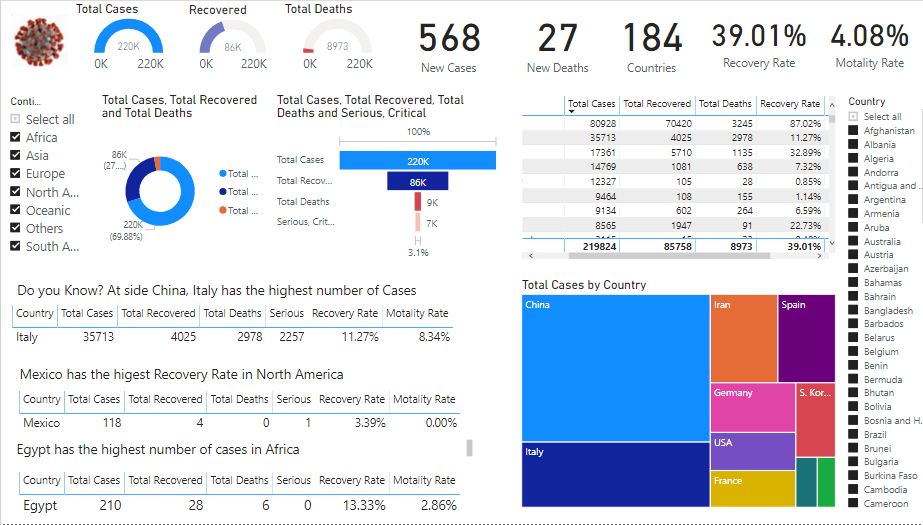

What the dashboard file says about the page in this screenshot:
{"tool":"powerbi","page":{"name":"Page 1","canvas":[1280,720],"ordinal":0},"visuals":[{"type":"image","box":[9.6,0,88.1,107.4],"z":0},{"type":"textbox","box":[9.6,380,631.9,37.2],"z":1000},{"type":"gauge","title":"Total Cases","fields":{"Y":["Sum(Covid-19.Total Cases)"],"MaxValue":["Sum(Covid-19.Total Cases)"]},"box":[97.7,0,155.6,107.4],"z":2000},{"type":"tableEx","fields":{"Values":["Covid-19.Country","Sum(Covid-19.Total Cases)","Sum(Covid-19.Total Recovered)","Sum(Covid-19.Total Deaths)","Sum(Covid-19.Serious, Critical)","Covid-19.Recovery Rate","Covid-19.Motality Rate"]},"box":[9.8,413.5,654.1,80.2],"z":3000},{"type":"gauge","title":"Recovered","fields":{"Y":["Sum(Covid-19.Total Recovered)"],"MaxValue":["Sum(Covid-19.Total Cases)"]},"box":[253.3,1.4,132.2,106],"z":4000},{"type":"gauge","title":"Total Deaths","fields":{"Y":["Sum(Covid-19.Total Deaths)"],"MaxValue":["Sum(Covid-19.Total Cases)"]},"box":[385.5,0,155.6,107.4],"z":5000},{"type":"card","fields":{"Values":["Sum(Covid-19.New Cases)"]},"box":[541,0,150.1,107.4],"z":6000},{"type":"card","fields":{"Values":["Sum(Covid-19.New Deaths)"]},"box":[691.1,0,150.1,107.4],"z":7000},{"type":"card","fields":{"Values":["Covid-19.Countries"]},"box":[820.5,0,150.1,106],"z":8000},{"type":"card","fields":{"Values":["Covid-19.Recovery Rate"]},"box":[970.6,0,145.9,107.4],"z":9000},{"type":"card","fields":{"Values":["Covid-19.Motality Rate"]},"box":[1130.2,0,130.8,106],"z":10000},{"type":"tableEx","fields":{"Values":["Covid-19.Country","Sum(Covid-19.Total Cases)","Sum(Covid-19.Total Recovered)","Sum(Covid-19.Total Deaths)","Covid-19.Recovery Rate","Covid-19.Motality Rate"]},"box":[711.7,125.3,441.9,235.4],"z":11000},{"type":"funnel","fields":{"Y":["Sum(Covid-19.Total Cases)","Sum(Covid-19.Total Recovered)","Sum(Covid-19.Total Deaths)","Sum(Covid-19.Serious, Critical)"]},"box":[374.5,125.3,316.6,235.4],"z":12000},{"type":"donutChart","fields":{"Y":["Sum(Covid-19.Total Cases)","Sum(Covid-19.Total Recovered)","Sum(Covid-19.Total Deaths)"]},"box":[133.5,125.3,240.9,235.4],"z":13000},{"type":"slicer","fields":{"Values":["Covid-19.Continent"]},"box":[0,125.3,118.4,235.4],"z":14000},{"type":"treemap","fields":{"Details":["Covid-19.Country"],"Values":["Sum(Covid-19.Total Cases)"]},"box":[711.7,380,441.9,322.1],"z":15000},{"type":"slicer","fields":{"Values":["Covid-19.Country"]},"box":[1153.7,125.3,126.7,576.8],"z":16000},{"type":"textbox","box":[9.6,495.6,631.9,35.8],"z":17000},{"type":"textbox","box":[0,598.9,653.9,34.4],"z":18000},{"type":"tableEx","fields":{"Values":["Covid-19.Country","Sum(Covid-19.Total Cases)","Sum(Covid-19.Total Recovered)","Sum(Covid-19.Total Deaths)","Sum(Covid-19.Serious, Critical)","Covid-19.Recovery Rate","Covid-19.Motality Rate"]},"box":[19.3,642.9,644.3,71.6],"z":19000},{"type":"tableEx","fields":{"Values":["Covid-19.Country","Sum(Covid-19.Total Cases)","Sum(Covid-19.Total Recovered)","Sum(Covid-19.Total Deaths)","Sum(Covid-19.Serious, Critical)","Covid-19.Recovery Rate","Covid-19.Motality Rate"]},"box":[19.3,531.4,620.9,67.5],"z":20000}]}

Visuals, with their boxes in screenshot pixels (x1, y1, x2, y2), scaled from the page's 1280x720 canvas onto the 923x525 screenshot:
image: bbox=(7, 0, 70, 78)
textbox: bbox=(7, 277, 463, 304)
"Total Cases" gauge: bbox=(70, 0, 183, 78)
tableEx - Covid-19.Country x Sum(Covid-19.Total Cases): bbox=(7, 302, 479, 360)
"Recovered" gauge: bbox=(183, 1, 278, 78)
"Total Deaths" gauge: bbox=(278, 0, 390, 78)
card - Sum(Covid-19.New Cases): bbox=(390, 0, 498, 78)
card - Sum(Covid-19.New Deaths): bbox=(498, 0, 607, 78)
card - Covid-19.Countries: bbox=(592, 0, 700, 77)
card - Covid-19.Recovery Rate: bbox=(700, 0, 805, 78)
card - Covid-19.Motality Rate: bbox=(815, 0, 909, 77)
tableEx - Covid-19.Country x Sum(Covid-19.Total Cases): bbox=(513, 91, 832, 263)
funnel - Sum(Covid-19.Total Cases) x Sum(Covid-19.Total Recovered): bbox=(270, 91, 498, 263)
donutChart - Sum(Covid-19.Total Cases) x Sum(Covid-19.Total Recovered): bbox=(96, 91, 270, 263)
slicer - Covid-19.Continent: bbox=(0, 91, 85, 263)
treemap - Covid-19.Country x Sum(Covid-19.Total Cases): bbox=(513, 277, 832, 512)
slicer - Covid-19.Country: bbox=(832, 91, 922, 512)
textbox: bbox=(7, 361, 463, 387)
textbox: bbox=(0, 437, 472, 462)
tableEx - Covid-19.Country x Sum(Covid-19.Total Cases): bbox=(14, 469, 479, 521)
tableEx - Covid-19.Country x Sum(Covid-19.Total Cases): bbox=(14, 387, 462, 437)
